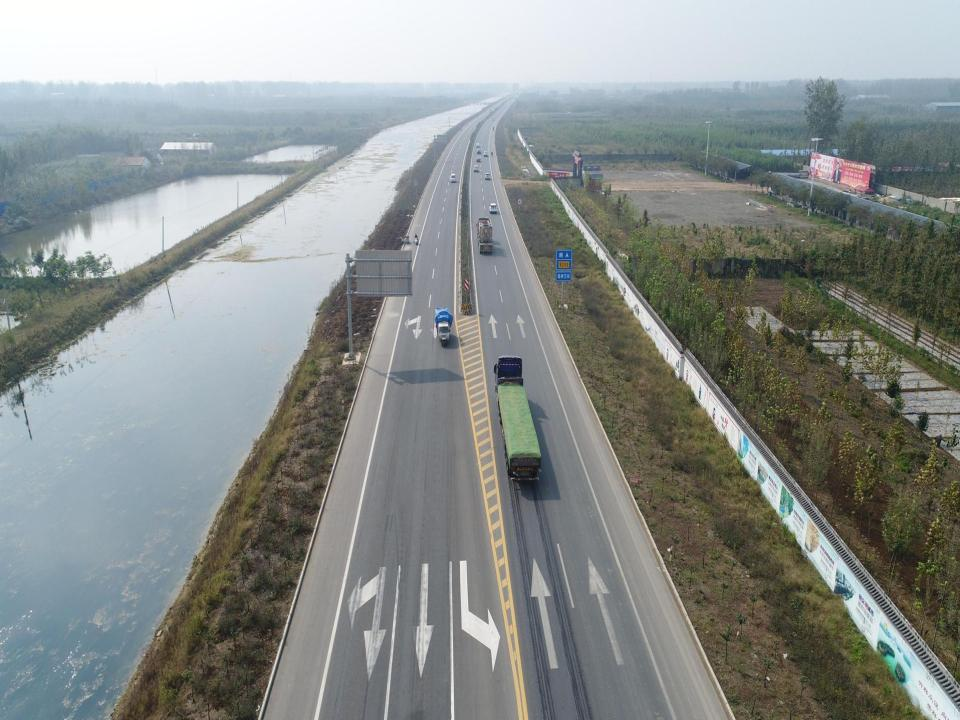car: (490, 203, 497, 214), (484, 172, 490, 181), (472, 166, 478, 172), (483, 152, 488, 157), (476, 149, 481, 154), (476, 156, 480, 162), (476, 143, 480, 148)
truck: (493, 356, 542, 483), (476, 218, 493, 255)
van: (450, 173, 456, 183)
